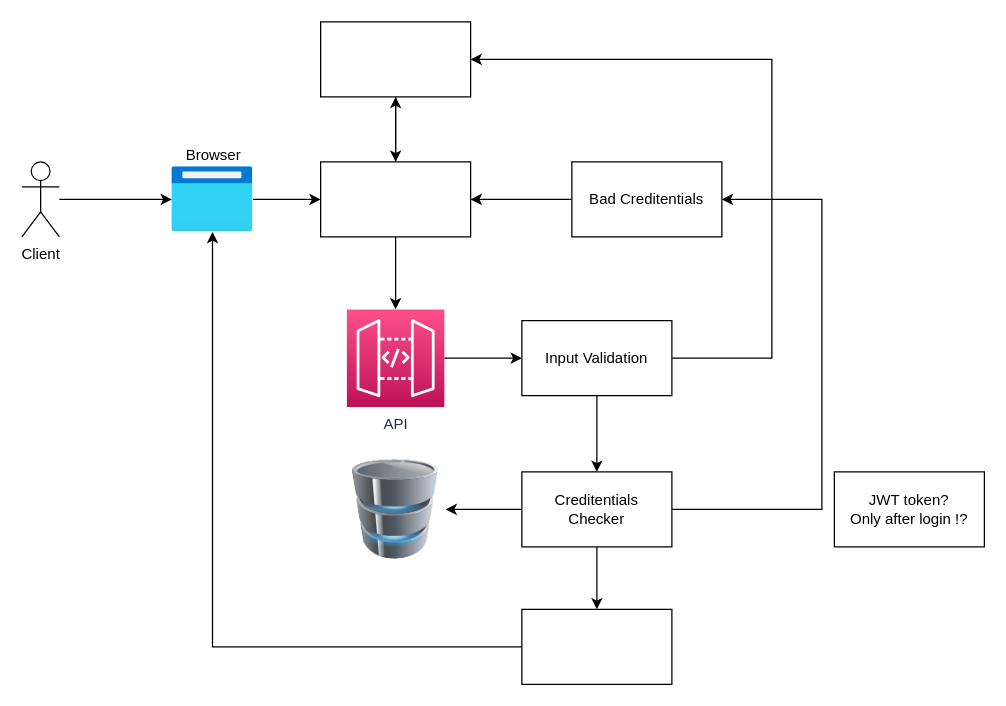
The diagram is 1006 pixels wide and 706 high, and some of its shapes have lost their labels. The shapes that lost their labels are listed below. From the top down, each one's centre as x and y in pixels, then its label:
At point 395,59: "Bad Input".
At point 395,199: "Log In".
At point 395,509: "Database".
At point 596,646: "Login Successful".
